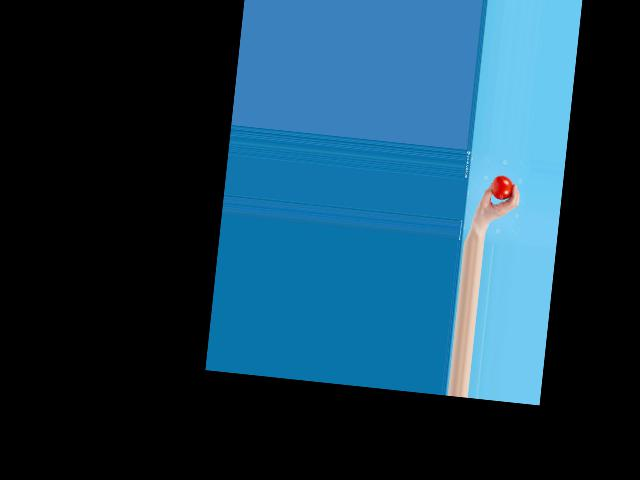tomato: (490, 175, 514, 200)
